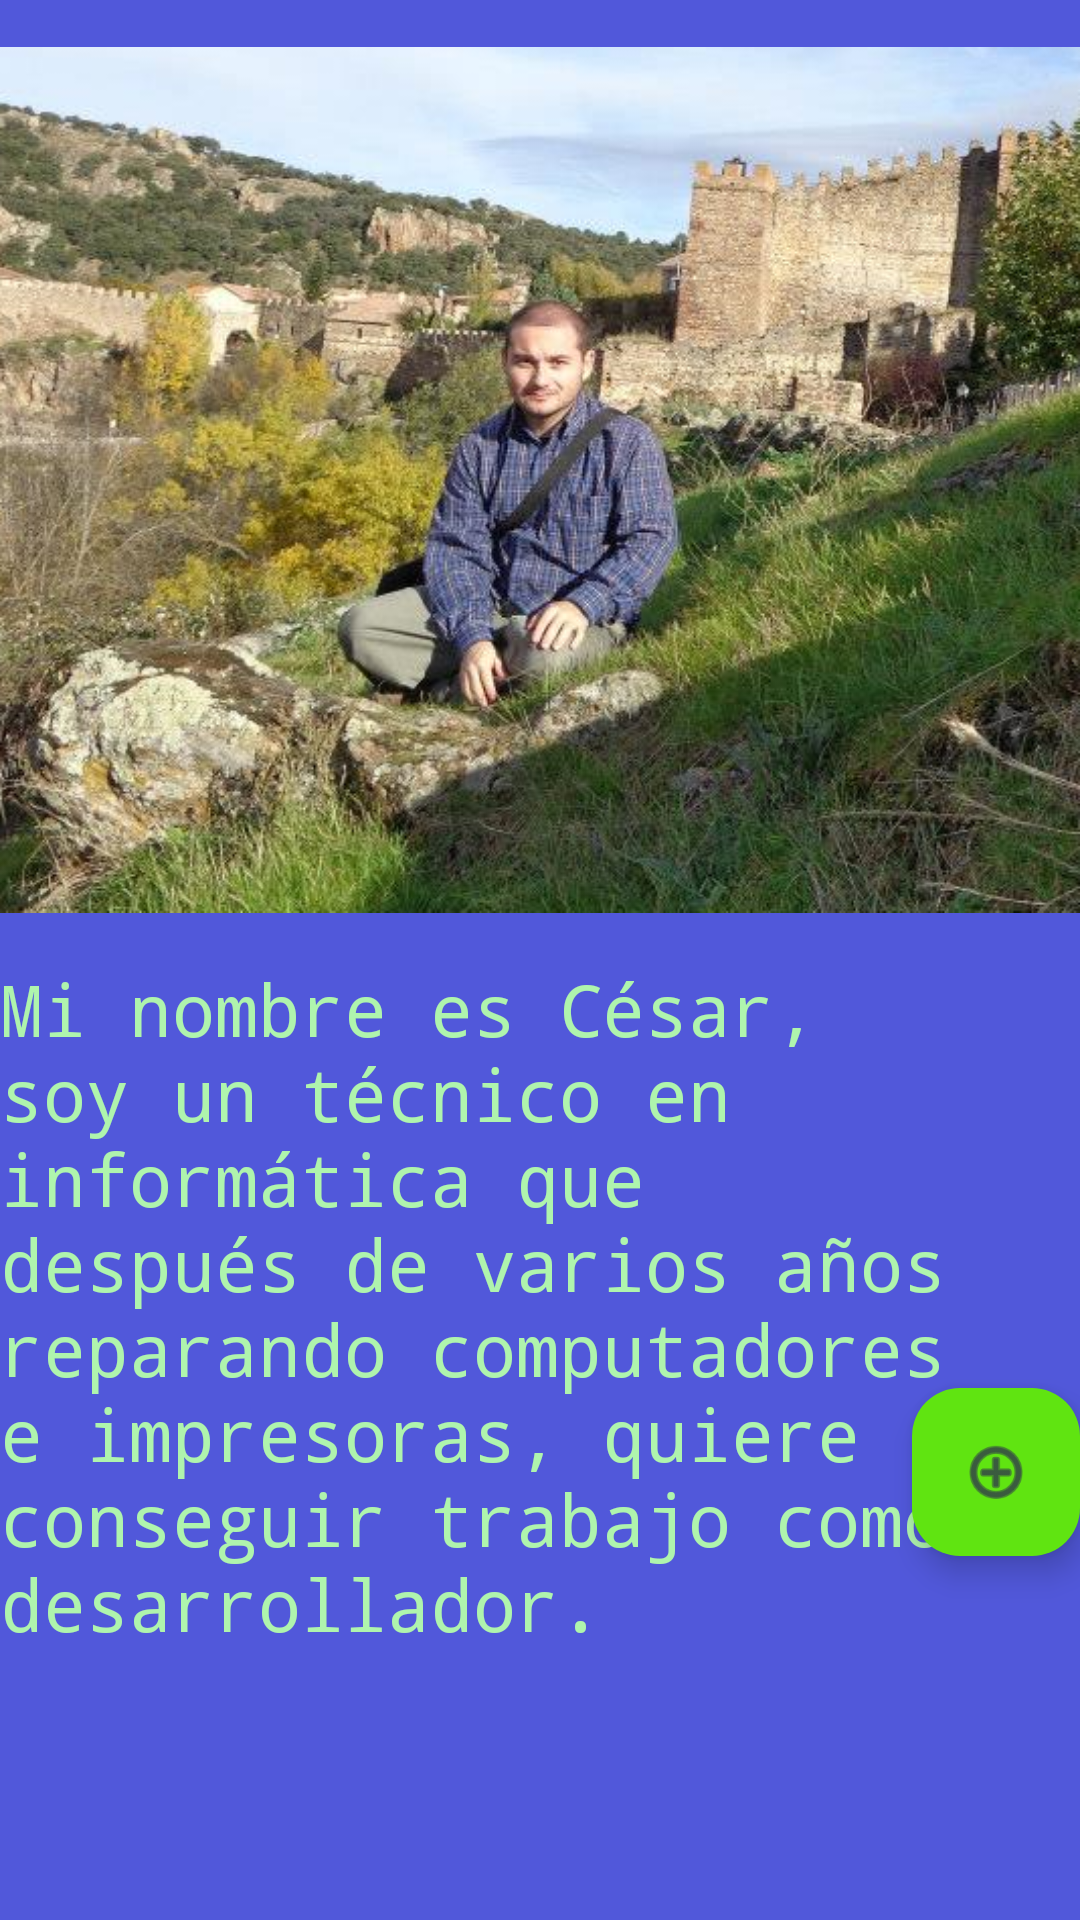

Screen size 1080 × 1920. Icon name, then its center in pixels as point (x, y):
Ver mas: point (996, 1472)
